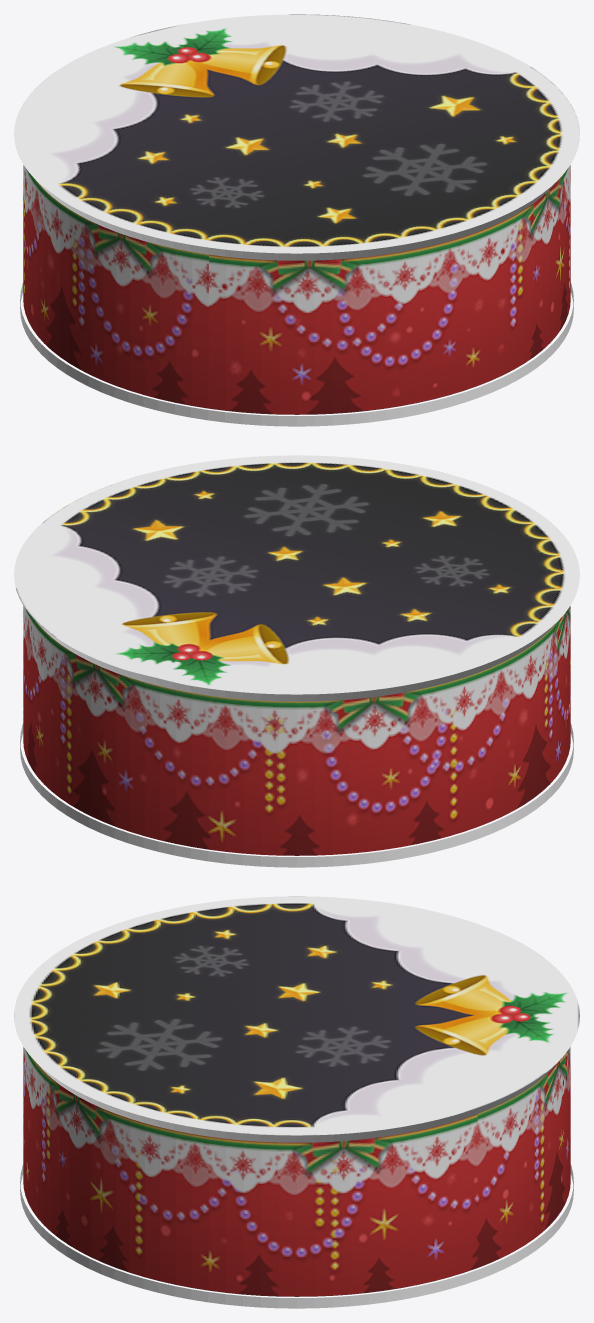
File: pedestal.glb
3 views of the same model, one above another, from view 1: azimuth 30°, elevation 25°; view 2: azimuth 150°, elevation 25°; view 3: azimuth 270°, elevation 25° (orthographic).
Visible parts, largest first — view 1: StandAtlasTop, StandAtlasSide, GoldFootTrim, GoldTopLip; view 2: StandAtlasTop, StandAtlasSide, GoldFootTrim, GoldTopLip; view 3: StandAtlasTop, StandAtlasSide, GoldFootTrim, GoldTopLip.
Boxes of the visible parts, left/top/right/bottom form: StandAtlasTop: left=14, top=14, right=579, bottom=253; StandAtlasSide: left=23, top=165, right=570, bottom=414; GoldFootTrim: left=20, top=282, right=573, bottom=426; GoldTopLip: left=33, top=177, right=560, bottom=260; StandAtlasTop: left=14, top=455, right=579, bottom=694; StandAtlasSide: left=23, top=606, right=570, bottom=855; GoldFootTrim: left=20, top=723, right=573, bottom=867; GoldTopLip: left=33, top=618, right=560, bottom=701; StandAtlasTop: left=14, top=896, right=579, bottom=1135; StandAtlasSide: left=23, top=1047, right=570, bottom=1296; GoldFootTrim: left=20, top=1164, right=573, bottom=1308; GoldTopLip: left=33, top=1059, right=560, bottom=1142.
Size of the model in its own units: 4 by 1.37 by 4.
Materials: 2 (1 with a texture image).
